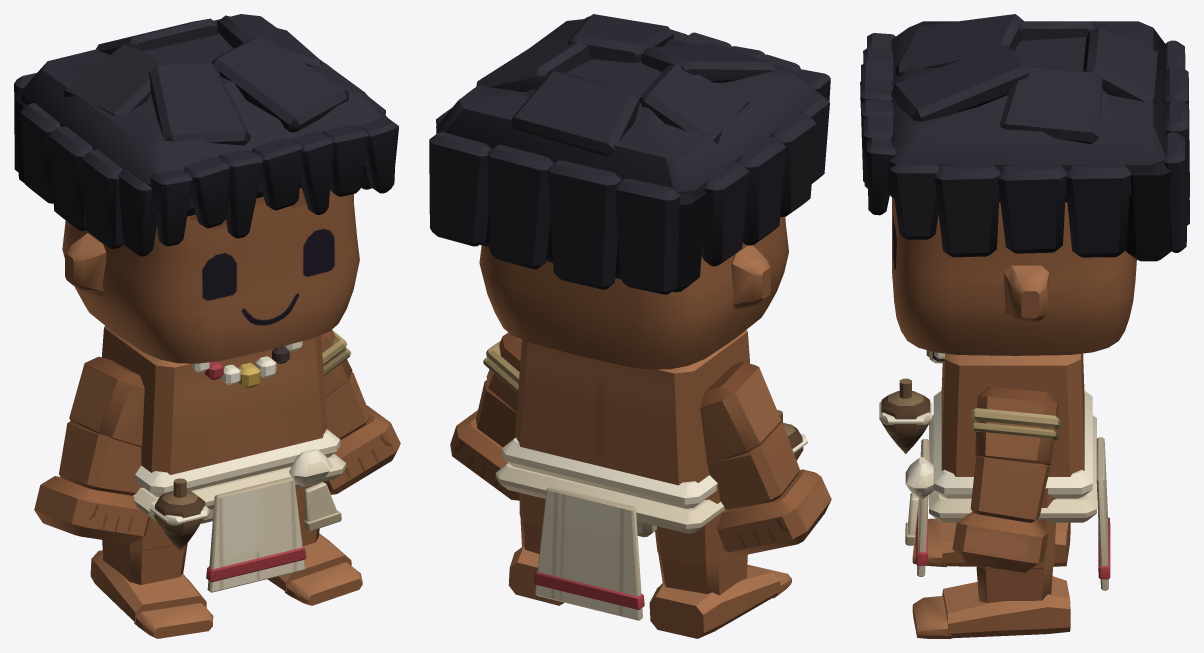
Rendered from audience_v2_boy_stand.glb.
3 views of the same model, side by side, from view 1: azimuth 30°, elevation 25°; view 2: azimuth 150°, elevation 25°; view 3: azimuth 270°, elevation 25° (orthographic). The views are drawn at different scales.
Parts seen in each view (by area): view 1: audience_v2_boy_stand; view 2: audience_v2_boy_stand; view 3: audience_v2_boy_stand.
Part boxes in pixels (bbox=[...]): audience_v2_boy_stand: bbox=[14, 14, 400, 638]; audience_v2_boy_stand: bbox=[429, 14, 831, 638]; audience_v2_boy_stand: bbox=[860, 14, 1189, 638].
Bounding box in the file's own units: 0.4586 × 0.6801 × 0.369.
1 material, 1 textured.
